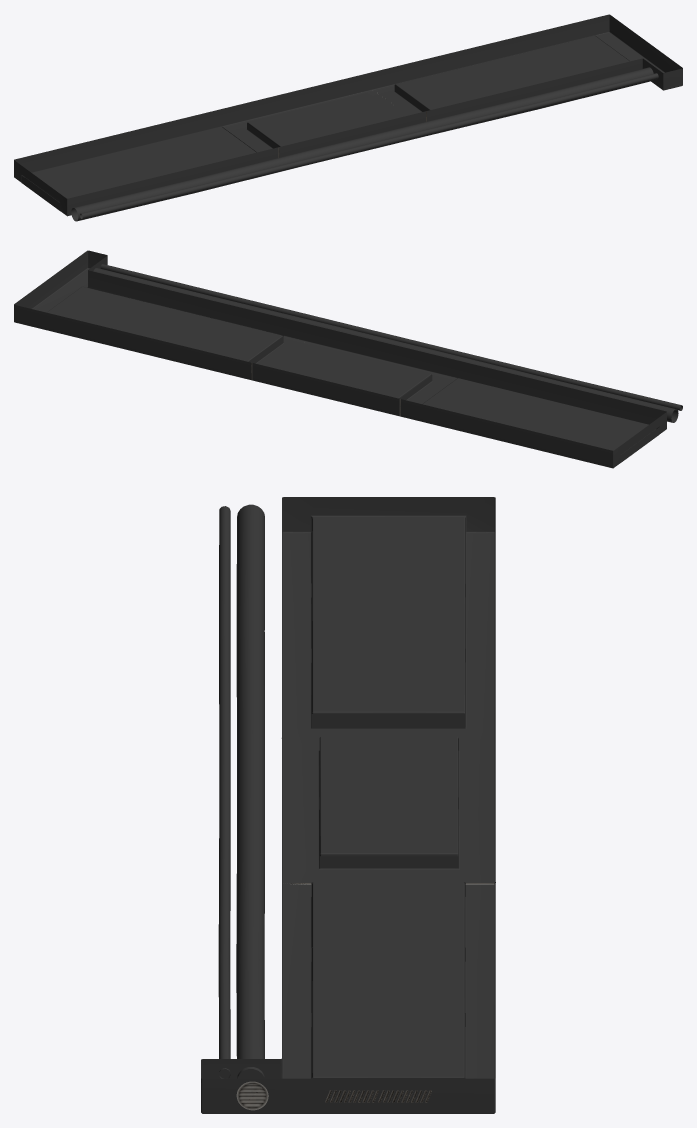
File: SM_AC_Roof_Unit_02.FBX
The picture shows the model from 3 angles, top to bottom: view 1: azimuth 30°, elevation 25°; view 2: azimuth 150°, elevation 25°; view 3: azimuth 270°, elevation 25°; orthographic projection. The views are drawn at different scales.
Parts seen in each view (by area): view 1: SM_AC_Roof_Unit_02_LOD0; view 2: SM_AC_Roof_Unit_02_LOD0; view 3: SM_AC_Roof_Unit_02_LOD0.
Boxes of the visible parts, x1=… form: SM_AC_Roof_Unit_02_LOD0: x1=14, y1=14, x2=682, y2=221; SM_AC_Roof_Unit_02_LOD0: x1=14, y1=250, x2=682, y2=468; SM_AC_Roof_Unit_02_LOD0: x1=201, y1=497, x2=495, y2=1113.
Size of what is drawn, in the model's own units: 710 by 152 by 20.63.
